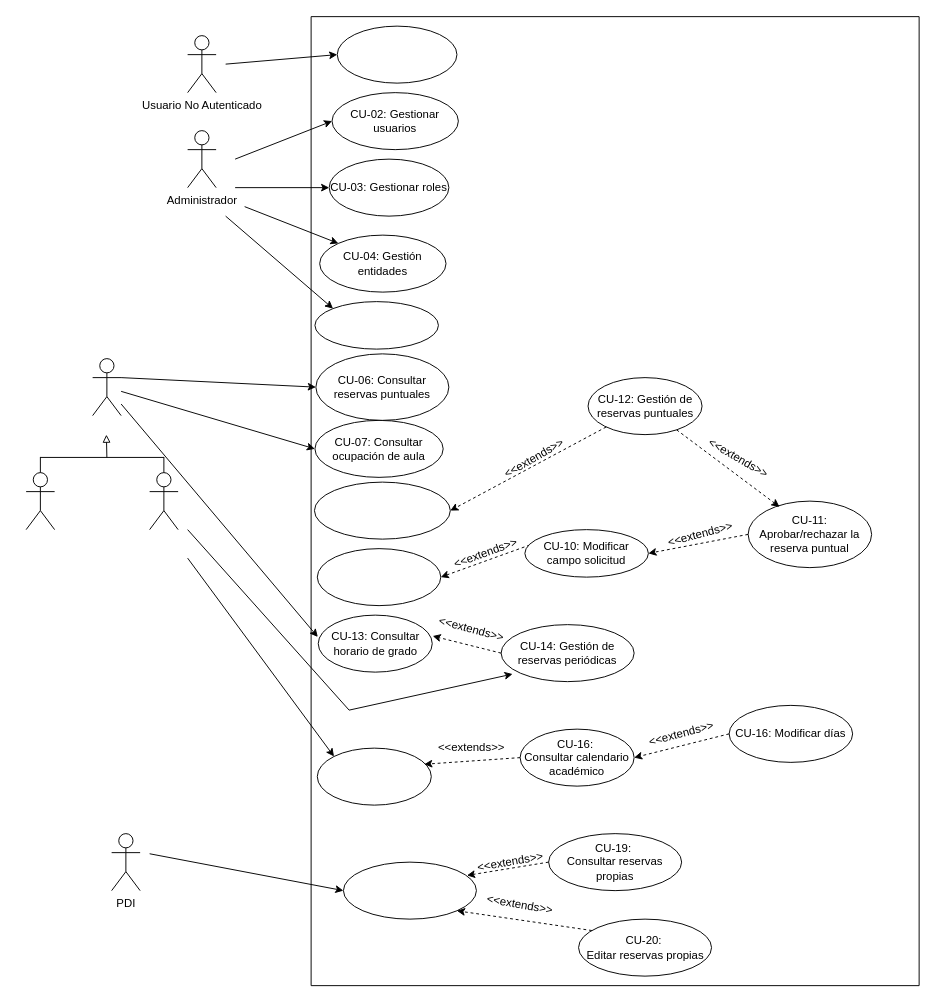
The diagram is 937 pixels wide and 1003 high, and some of its shapes have lost their labels. The shapes that lost their labels are listed below. From the top down, each one's centre as x and y in pixels, then its label:
At [396,54]: "CU-01:Iniciar sesión".
At [376,325]: "CU-05: Cargar horario".
At [106,387]: "Gestor".
At [40,501]: "No Editor".
At [163,501]: "Editor".
At [382,510]: "CU-08: Crear reserva puntual".
At [378,577]: "CU-09: Revisar solicitudes de reserva".
At [373,776]: "CU-15: Crear calendario académico".
At [409,890]: "CU-18: Solicitar reserva".
